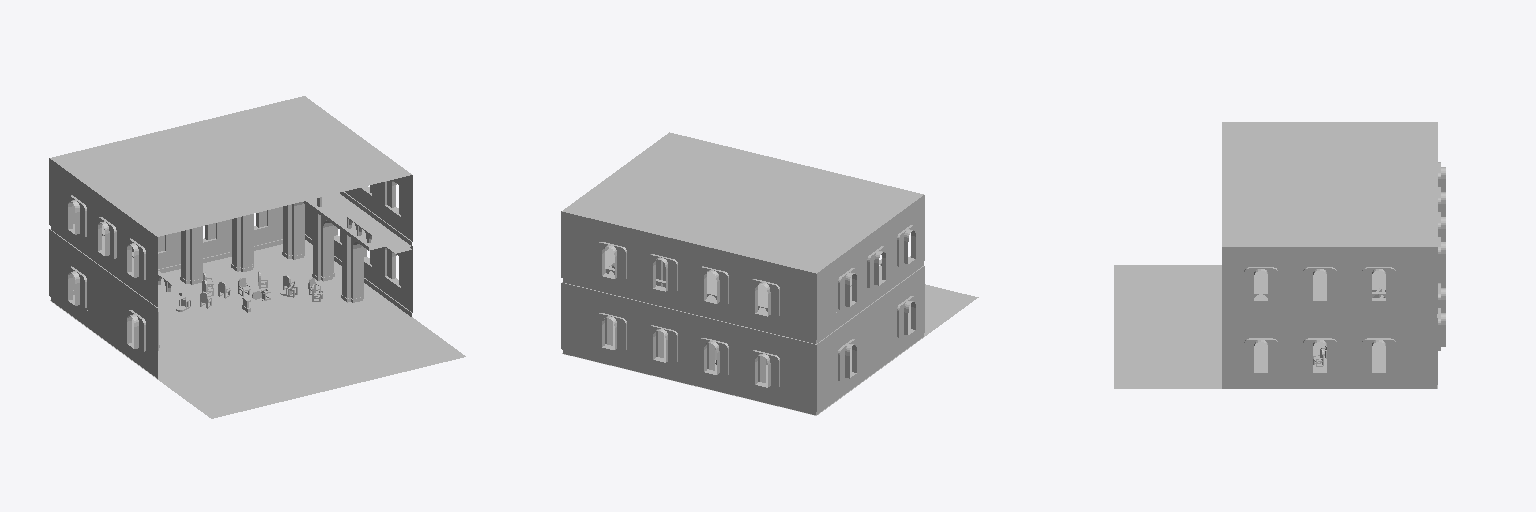
Rendered from Stage.obj.
The picture shows the model from 3 angles: view 1: azimuth 30°, elevation 25°; view 2: azimuth 150°, elevation 25°; view 3: azimuth 270°, elevation 25°; orthographic projection.
Parts seen in each view (by area): view 1: Plane.668_Plane.801; view 2: Plane.668_Plane.801; view 3: Plane.668_Plane.801.
Boxes of the visible parts, x1=… form: Plane.668_Plane.801: x1=49, y1=96, x2=465, y2=418; Plane.668_Plane.801: x1=561, y1=132, x2=978, y2=415; Plane.668_Plane.801: x1=1114, y1=122, x2=1445, y2=388.
Size of the model in its own units: 48.29 by 24.4 by 51.58.